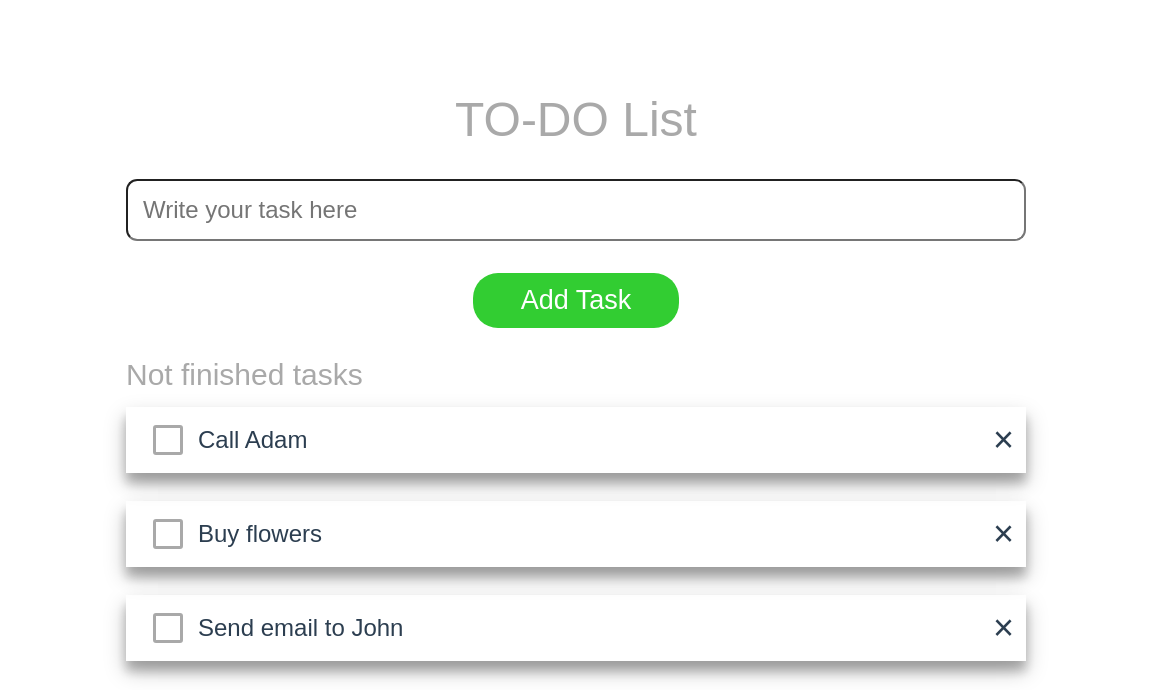
Test: Counter › should add a todo task
Type "hello" into the field with class "todo-text" at (576, 210), box [126,179,1026,241]
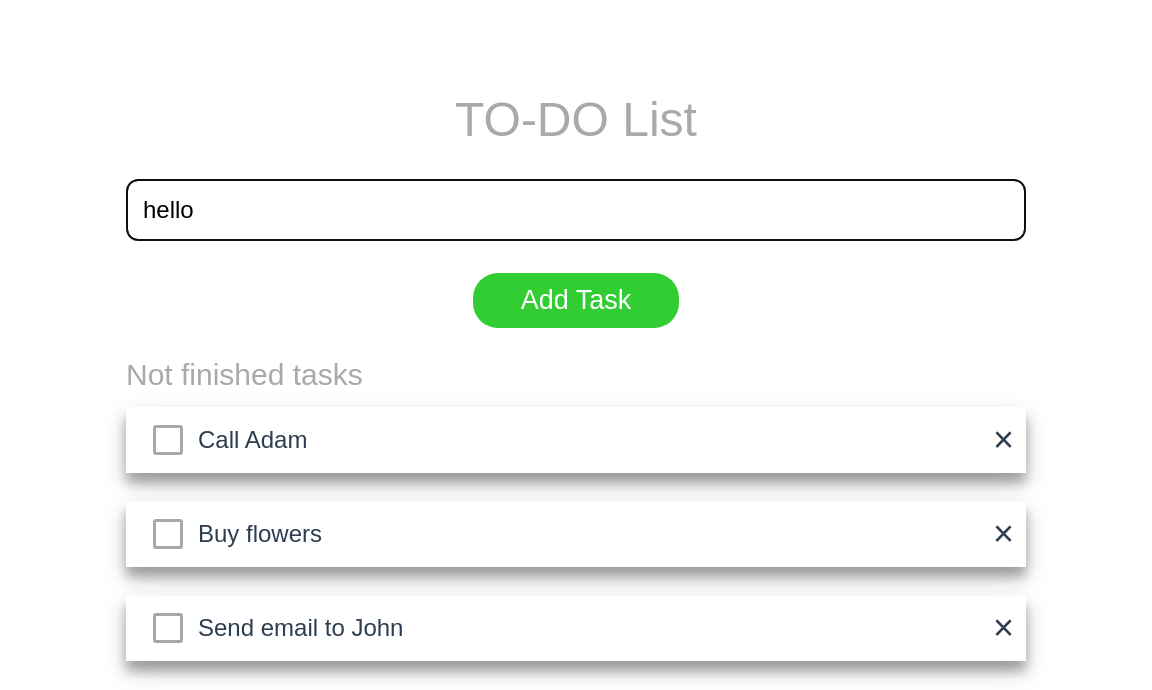
Click the button with class "btn-add" at (577, 302), box [473,274,680,329]
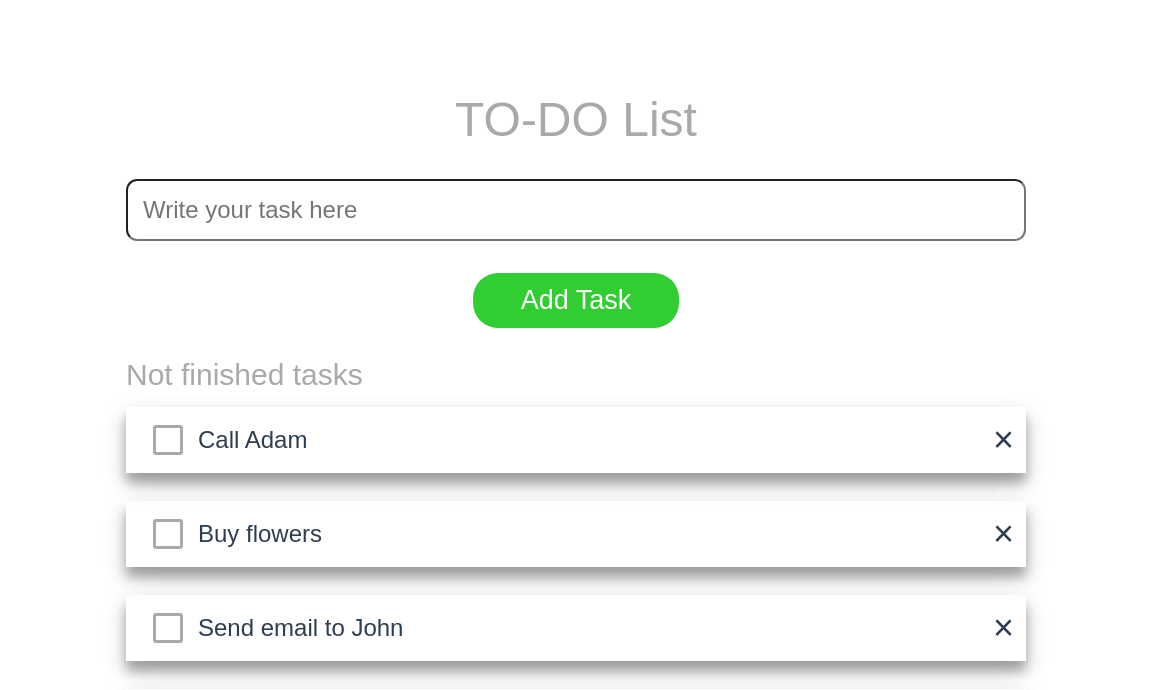
Expected: the number of elements with class "task-item" is 6
